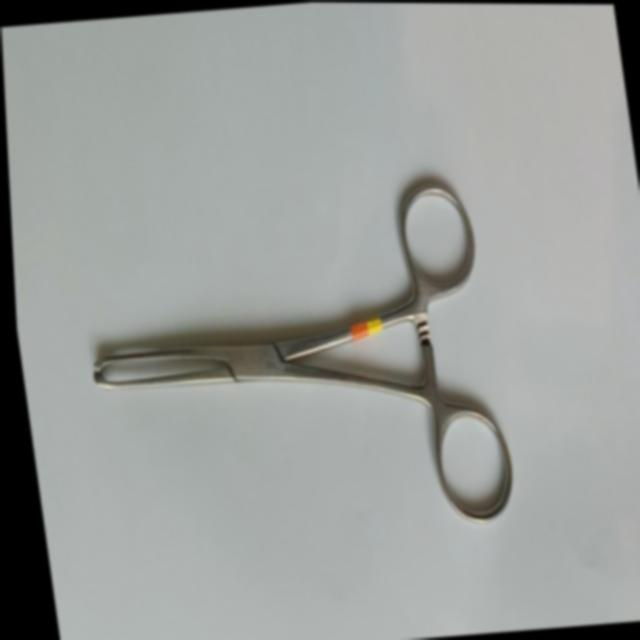AllisForcep: (65, 170, 519, 557)
